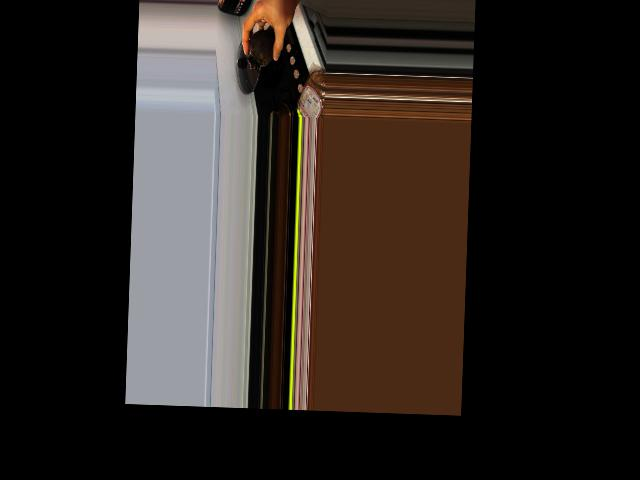beet: (247, 27, 274, 70)
